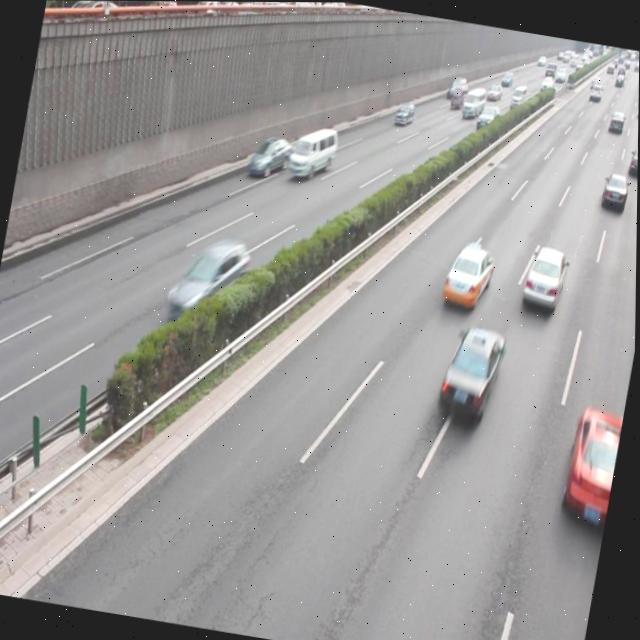car: (164, 231, 254, 326), (559, 400, 626, 527), (434, 317, 509, 427), (440, 239, 497, 310), (519, 241, 571, 315), (249, 129, 294, 177), (600, 170, 630, 212), (393, 99, 416, 125), (626, 143, 638, 178)
truck: (285, 123, 340, 183)
